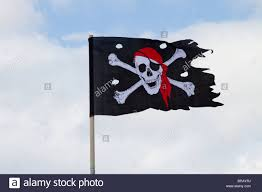Jolly Roger Flag: (86, 33, 226, 118)
